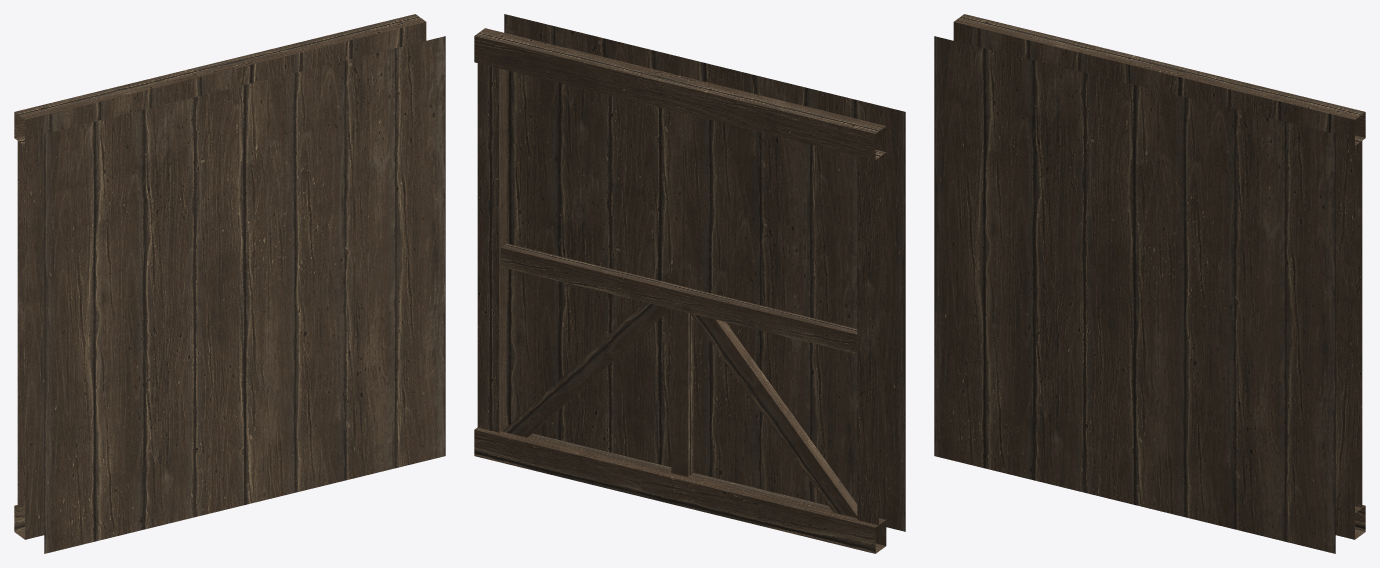
File: ARC1010321.fbx
The picture shows the model from 3 angles, left to right: view 1: azimuth 30°, elevation 25°; view 2: azimuth 150°, elevation 25°; view 3: azimuth 330°, elevation 25°; orthographic projection.
Parts seen in each view (by area): view 1: smARC1010321; view 2: smARC1010321; view 3: smARC1010321.
Part boxes in pixels (<box>): smARC1010321: <box>14,14,445,553</box>; smARC1010321: <box>474,14,905,553</box>; smARC1010321: <box>934,14,1365,553</box>.
Size of the model in its own units: 268 by 268 by 34.9.
Materials: 1 (1 with a texture image).
